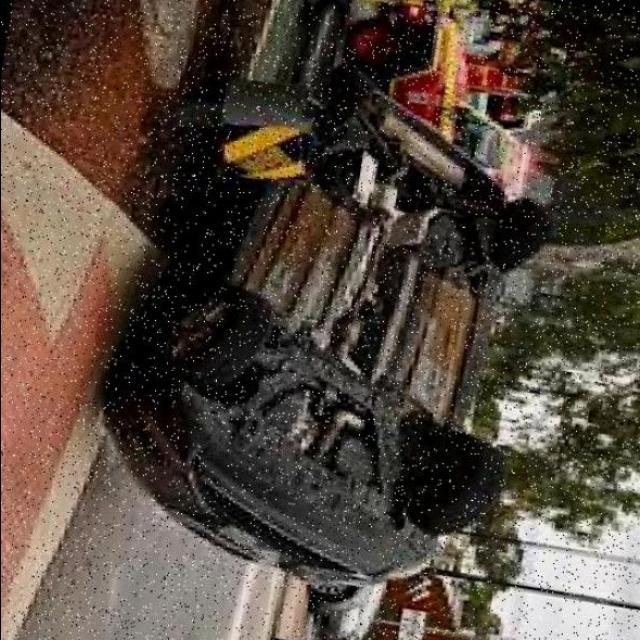accident: (67, 35, 577, 619)
